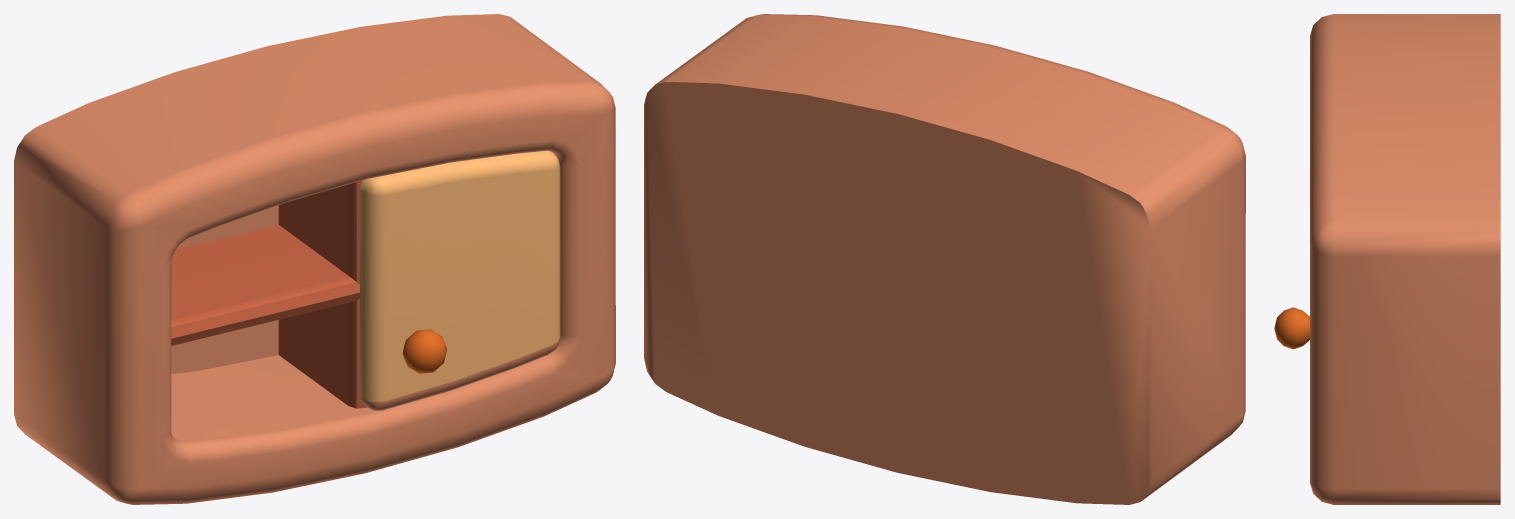
The model's file is armario_parede_nicho_porta_campestre_pacote.glb.
3 views of the same model, side by side, from view 1: azimuth 30°, elevation 25°; view 2: azimuth 150°, elevation 25°; view 3: azimuth 270°, elevation 25° (orthographic). The views are drawn at different scales.
Parts seen in each view (by area): view 1: armario_parede_nicho_porta_campestre_pacote, porta_1; view 2: armario_parede_nicho_porta_campestre_pacote; view 3: armario_parede_nicho_porta_campestre_pacote, porta_1.
Part boxes in pixels (box(x1,y1,x2,y2)): armario_parede_nicho_porta_campestre_pacote: box(14, 14, 615, 504); porta_1: box(360, 150, 560, 410); armario_parede_nicho_porta_campestre_pacote: box(644, 14, 1245, 504); armario_parede_nicho_porta_campestre_pacote: box(1310, 14, 1500, 504); porta_1: box(1274, 307, 1309, 349).
Size of the model in its own units: 0.9 by 0.6085 by 0.3799.
Materials: 1 (1 with a texture image).
